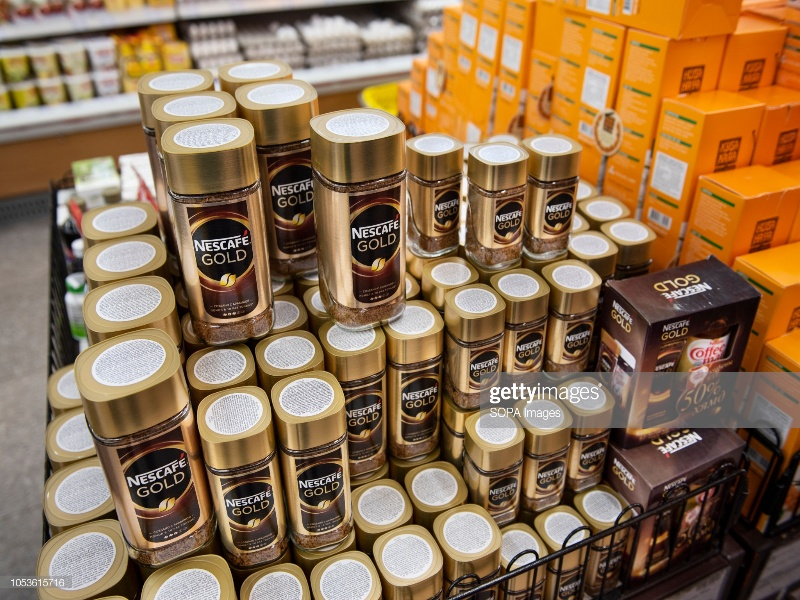nescafe-classic/gold-med: (79, 346, 208, 554), (160, 125, 277, 336), (309, 114, 410, 327), (193, 370, 285, 557), (242, 89, 330, 267), (278, 374, 353, 545), (335, 339, 396, 476), (393, 313, 447, 457)
nescafe-classic/gold-small: (468, 415, 528, 521), (411, 140, 466, 254), (477, 154, 529, 264), (530, 141, 579, 252), (526, 397, 573, 503), (547, 274, 598, 367), (459, 304, 502, 396), (575, 393, 615, 483), (501, 287, 542, 369)
